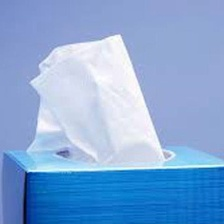book: (0, 140, 224, 223)
tissue: (21, 30, 168, 171)
